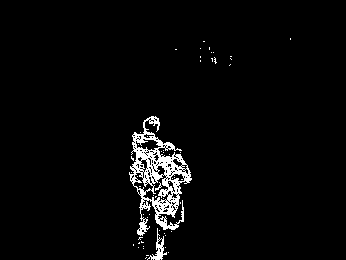person: (148, 139, 195, 260), (127, 116, 165, 246)
